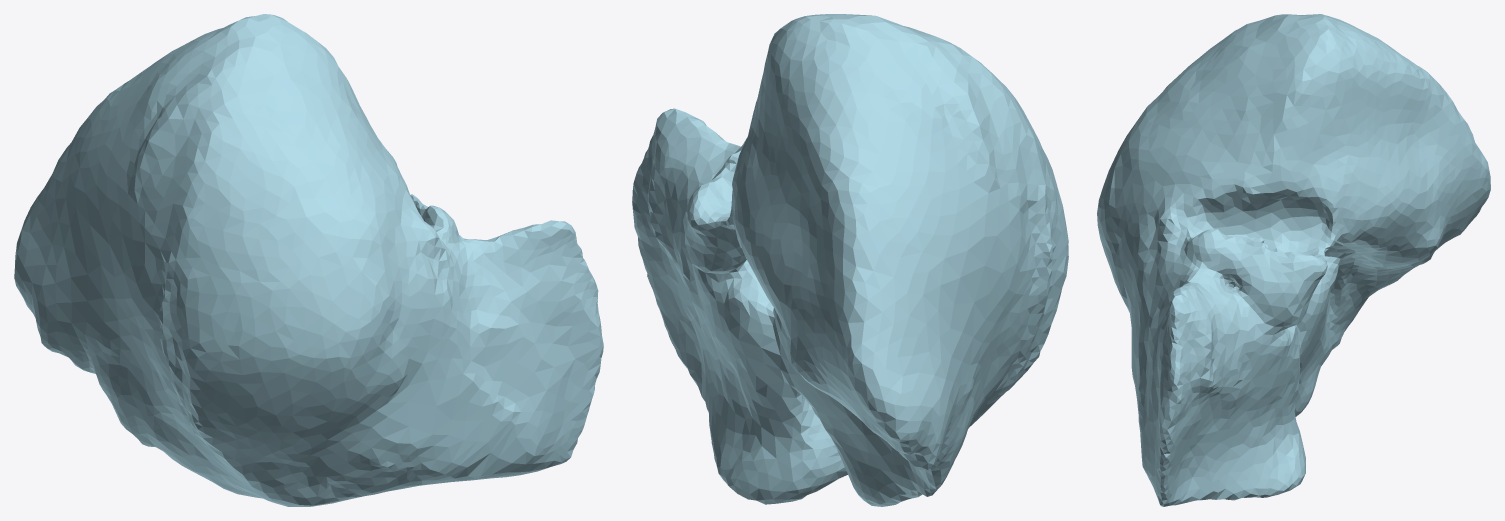
File: liver.obj
3 renders of one model, left to right at view 1: azimuth 30°, elevation 25°; view 2: azimuth 150°, elevation 25°; view 3: azimuth 270°, elevation 25°, orthographic. The views are drawn at different scales.
Parts seen in each view (by area): view 1: grp1; view 2: grp1; view 3: grp1.
Boxes of the visible parts, x1,y1,x2,y2 form: grp1: [14, 14, 603, 506]; grp1: [632, 14, 1068, 506]; grp1: [1097, 14, 1490, 506].
Size of the model in its own units: 199 by 214 by 179.
